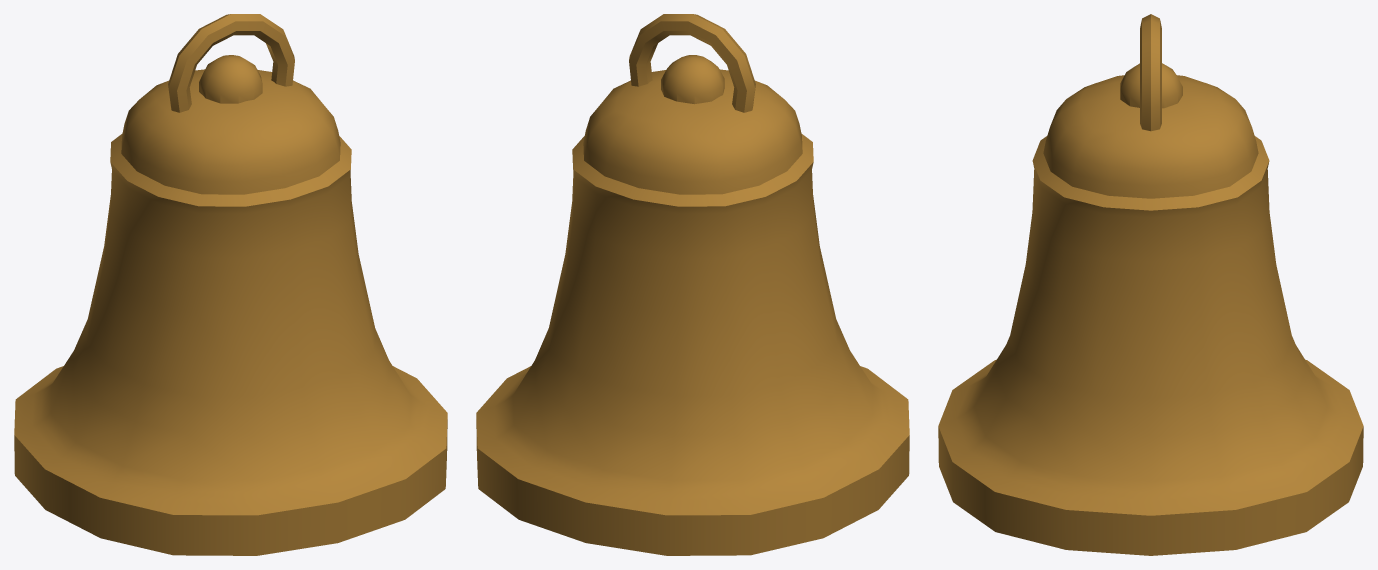
The model's file is bell.glb.
3 views of the same model, side by side, from view 1: azimuth 30°, elevation 25°; view 2: azimuth 150°, elevation 25°; view 3: azimuth 270°, elevation 25° (orthographic).
Parts seen in each view (by area): view 1: Bell; view 2: Bell; view 3: Bell.
Boxes of the visible parts, x1,y1,x2,y2 form: Bell: (14, 14, 447, 555); Bell: (476, 14, 909, 555); Bell: (938, 14, 1363, 555).
Bounding box in the file's own units: 0.6332 × 0.7325 × 0.6332.
